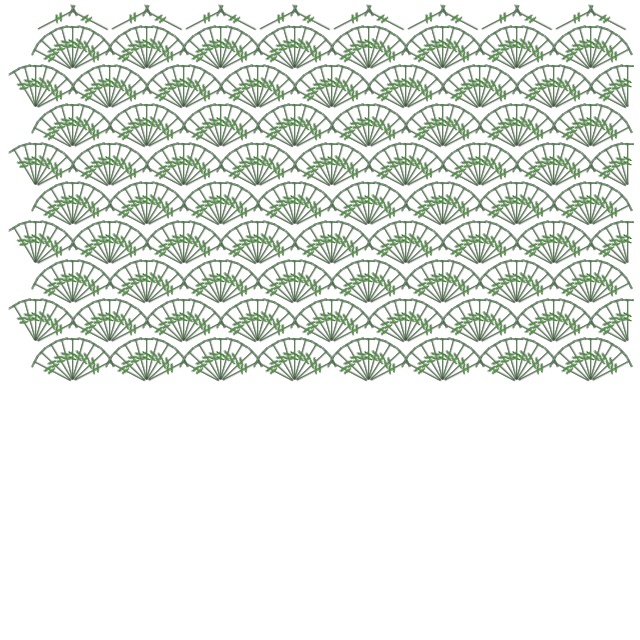fan: (36, 33, 78, 74), (68, 33, 110, 74), (110, 33, 152, 74), (142, 33, 184, 74), (184, 33, 226, 74), (216, 33, 258, 74), (258, 33, 300, 74), (290, 33, 332, 74), (332, 33, 374, 74), (364, 33, 406, 74), (406, 33, 448, 74), (438, 33, 480, 74), (480, 33, 522, 74), (512, 33, 554, 74), (554, 33, 596, 74), (586, 33, 628, 74), (31, 72, 73, 113), (73, 72, 115, 113), (105, 72, 147, 113), (147, 72, 189, 113), (179, 72, 221, 113), (221, 72, 263, 113), (253, 72, 295, 113), (295, 72, 337, 113), (327, 72, 369, 113), (369, 72, 411, 113), (401, 72, 443, 113), (443, 72, 485, 113), (475, 72, 517, 113), (517, 72, 559, 113), (549, 72, 591, 113), (591, 72, 633, 113), (36, 111, 78, 152), (68, 111, 110, 152), (110, 111, 152, 152), (142, 111, 184, 152), (184, 111, 226, 152), (216, 111, 258, 152), (258, 111, 300, 152), (290, 111, 332, 152), (332, 111, 374, 152), (364, 111, 406, 152), (406, 111, 448, 152), (438, 111, 480, 152), (480, 111, 522, 152), (512, 111, 554, 152), (554, 111, 596, 152), (586, 111, 628, 152), (31, 150, 73, 191), (73, 150, 115, 191), (105, 150, 147, 191), (147, 150, 189, 191), (179, 150, 221, 191), (221, 150, 263, 191), (253, 150, 295, 191), (295, 150, 337, 191), (327, 150, 369, 191), (369, 150, 411, 191), (401, 150, 443, 191), (443, 150, 485, 191), (475, 150, 517, 191), (517, 150, 559, 191), (549, 150, 591, 191), (591, 150, 633, 191), (36, 189, 78, 230), (68, 189, 110, 230), (110, 189, 152, 230), (142, 189, 184, 230), (184, 189, 226, 230), (216, 189, 258, 230), (258, 189, 300, 230), (290, 189, 332, 230), (332, 189, 374, 230), (364, 189, 406, 230), (406, 189, 448, 230), (438, 189, 480, 230), (480, 189, 522, 230), (512, 189, 554, 230), (554, 189, 596, 230), (586, 189, 628, 230), (31, 228, 73, 269), (73, 228, 115, 269), (105, 228, 147, 269), (147, 228, 189, 269), (179, 228, 221, 269), (221, 228, 263, 269), (253, 228, 295, 269), (295, 228, 337, 269), (327, 228, 369, 269), (369, 228, 411, 269), (401, 228, 443, 269), (443, 228, 485, 269), (475, 228, 517, 269), (517, 228, 559, 269), (549, 228, 591, 269), (591, 228, 633, 269), (36, 267, 78, 308), (68, 267, 110, 308), (110, 267, 152, 308), (142, 267, 184, 308), (184, 267, 226, 308), (216, 267, 258, 308), (258, 267, 300, 308), (290, 267, 332, 308), (332, 267, 374, 308), (364, 267, 406, 308), (406, 267, 448, 308), (438, 267, 480, 308), (480, 267, 522, 308), (512, 267, 554, 308), (554, 267, 596, 308), (586, 267, 628, 308), (31, 306, 73, 347), (73, 306, 115, 347), (105, 306, 147, 347), (147, 306, 189, 347), (179, 306, 221, 347), (221, 306, 263, 347), (253, 306, 295, 347), (295, 306, 337, 347), (327, 306, 369, 347), (369, 306, 411, 347), (401, 306, 443, 347), (443, 306, 485, 347), (475, 306, 517, 347), (517, 306, 559, 347), (549, 306, 591, 347), (591, 306, 633, 347), (36, 345, 78, 386), (68, 345, 110, 386), (110, 345, 152, 386), (142, 345, 184, 386), (184, 345, 226, 386), (216, 345, 258, 386), (258, 345, 300, 386), (290, 345, 332, 386), (332, 345, 374, 386), (364, 345, 406, 386), (406, 345, 448, 386), (438, 345, 480, 386), (480, 345, 522, 386), (512, 345, 554, 386), (554, 345, 596, 386), (586, 345, 628, 386), (44, 27, 79, 73), (67, 27, 102, 73), (118, 27, 153, 73), (141, 27, 176, 73), (192, 27, 227, 73), (215, 27, 250, 73), (266, 27, 301, 73), (289, 27, 324, 73), (340, 27, 375, 73), (363, 27, 398, 73), (414, 27, 449, 73), (437, 27, 472, 73), (488, 27, 523, 73), (511, 27, 546, 73), (562, 27, 597, 73), (585, 27, 620, 73), (7, 66, 42, 112), (30, 66, 65, 112), (81, 66, 116, 112), (104, 66, 139, 112), (155, 66, 190, 112), (178, 66, 213, 112), (229, 66, 264, 112), (252, 66, 287, 112), (303, 66, 338, 112), (326, 66, 361, 112), (377, 66, 412, 112), (400, 66, 435, 112), (451, 66, 486, 112), (474, 66, 509, 112), (525, 66, 560, 112), (548, 66, 583, 112), (599, 66, 634, 112), (44, 105, 79, 151), (67, 105, 102, 151), (118, 105, 153, 151), (141, 105, 176, 151), (192, 105, 227, 151), (215, 105, 250, 151), (266, 105, 301, 151), (289, 105, 324, 151), (340, 105, 375, 151), (363, 105, 398, 151), (414, 105, 449, 151), (437, 105, 472, 151), (488, 105, 523, 151), (511, 105, 546, 151), (562, 105, 597, 151), (585, 105, 620, 151), (7, 144, 42, 190), (30, 144, 65, 190), (81, 144, 116, 190), (104, 144, 139, 190), (155, 144, 190, 190), (178, 144, 213, 190), (229, 144, 264, 190), (252, 144, 287, 190), (303, 144, 338, 190), (326, 144, 361, 190), (377, 144, 412, 190), (400, 144, 435, 190), (451, 144, 486, 190), (474, 144, 509, 190), (525, 144, 560, 190), (548, 144, 583, 190), (599, 144, 634, 190), (44, 183, 79, 229), (67, 183, 102, 229), (118, 183, 153, 229), (141, 183, 176, 229), (192, 183, 227, 229), (215, 183, 250, 229), (266, 183, 301, 229), (289, 183, 324, 229), (340, 183, 375, 229), (363, 183, 398, 229), (414, 183, 449, 229), (437, 183, 472, 229), (488, 183, 523, 229), (511, 183, 546, 229), (562, 183, 597, 229), (585, 183, 620, 229), (7, 222, 42, 268), (30, 222, 65, 268), (81, 222, 116, 268), (104, 222, 139, 268), (155, 222, 190, 268), (178, 222, 213, 268), (229, 222, 264, 268), (252, 222, 287, 268), (303, 222, 338, 268), (326, 222, 361, 268), (377, 222, 412, 268), (400, 222, 435, 268), (451, 222, 486, 268), (474, 222, 509, 268), (525, 222, 560, 268), (548, 222, 583, 268), (599, 222, 634, 268), (44, 261, 79, 307), (67, 261, 102, 307), (118, 261, 153, 307), (141, 261, 176, 307), (192, 261, 227, 307), (215, 261, 250, 307), (266, 261, 301, 307), (289, 261, 324, 307), (340, 261, 375, 307), (363, 261, 398, 307), (414, 261, 449, 307), (437, 261, 472, 307), (488, 261, 523, 307), (511, 261, 546, 307), (562, 261, 597, 307), (585, 261, 620, 307), (7, 300, 42, 346), (30, 300, 65, 346), (81, 300, 116, 346), (104, 300, 139, 346), (155, 300, 190, 346), (178, 300, 213, 346), (229, 300, 264, 346), (252, 300, 287, 346), (303, 300, 338, 346), (326, 300, 361, 346), (377, 300, 412, 346), (400, 300, 435, 346), (451, 300, 486, 346), (474, 300, 509, 346), (525, 300, 560, 346), (548, 300, 583, 346), (599, 300, 634, 346), (44, 339, 79, 385), (67, 339, 102, 385), (118, 339, 153, 385), (141, 339, 176, 385), (192, 339, 227, 385), (215, 339, 250, 385), (266, 339, 301, 385), (289, 339, 324, 385), (340, 339, 375, 385), (363, 339, 398, 385), (414, 339, 449, 385), (437, 339, 472, 385), (488, 339, 523, 385), (511, 339, 546, 385), (562, 339, 597, 385), (585, 339, 620, 385), (33, 3, 78, 37), (68, 3, 113, 37), (107, 3, 152, 37), (142, 3, 187, 37), (181, 3, 226, 37), (216, 3, 261, 37), (255, 3, 300, 37), (290, 3, 335, 37), (329, 3, 374, 37), (364, 3, 409, 37), (403, 3, 448, 37), (438, 3, 483, 37), (477, 3, 522, 37), (512, 3, 557, 37), (551, 3, 596, 37), (586, 3, 631, 37), (31, 42, 76, 76), (70, 42, 115, 76), (105, 42, 150, 76), (144, 42, 189, 76), (179, 42, 224, 76), (218, 42, 263, 76), (253, 42, 298, 76), (292, 42, 337, 76), (327, 42, 372, 76), (366, 42, 411, 76), (401, 42, 446, 76), (440, 42, 485, 76), (475, 42, 520, 76), (514, 42, 559, 76), (549, 42, 594, 76), (588, 42, 633, 76), (33, 81, 78, 115), (68, 81, 113, 115), (107, 81, 152, 115), (142, 81, 187, 115), (181, 81, 226, 115), (216, 81, 261, 115), (255, 81, 300, 115), (290, 81, 335, 115), (329, 81, 374, 115), (364, 81, 409, 115), (403, 81, 448, 115), (438, 81, 483, 115), (477, 81, 522, 115), (512, 81, 557, 115), (551, 81, 596, 115), (586, 81, 631, 115), (31, 120, 76, 154), (70, 120, 115, 154), (105, 120, 150, 154), (144, 120, 189, 154), (179, 120, 224, 154), (218, 120, 263, 154), (253, 120, 298, 154), (292, 120, 337, 154), (327, 120, 372, 154), (366, 120, 411, 154), (401, 120, 446, 154), (440, 120, 485, 154), (475, 120, 520, 154), (514, 120, 559, 154), (549, 120, 594, 154), (588, 120, 633, 154), (33, 159, 78, 193), (68, 159, 113, 193), (107, 159, 152, 193), (142, 159, 187, 193), (181, 159, 226, 193), (216, 159, 261, 193), (255, 159, 300, 193), (290, 159, 335, 193), (329, 159, 374, 193), (364, 159, 409, 193), (403, 159, 448, 193), (438, 159, 483, 193), (477, 159, 522, 193), (512, 159, 557, 193), (551, 159, 596, 193), (586, 159, 631, 193), (31, 198, 76, 232), (70, 198, 115, 232), (105, 198, 150, 232), (144, 198, 189, 232), (179, 198, 224, 232), (218, 198, 263, 232), (253, 198, 298, 232), (292, 198, 337, 232), (327, 198, 372, 232), (366, 198, 411, 232), (401, 198, 446, 232), (440, 198, 485, 232), (475, 198, 520, 232), (514, 198, 559, 232), (549, 198, 594, 232), (588, 198, 633, 232), (33, 237, 78, 271), (68, 237, 113, 271), (107, 237, 152, 271), (142, 237, 187, 271), (181, 237, 226, 271), (216, 237, 261, 271), (255, 237, 300, 271), (290, 237, 335, 271), (329, 237, 374, 271), (364, 237, 409, 271), (403, 237, 448, 271), (438, 237, 483, 271), (477, 237, 522, 271), (512, 237, 557, 271), (551, 237, 596, 271), (586, 237, 631, 271), (31, 276, 76, 310), (70, 276, 115, 310), (105, 276, 150, 310), (144, 276, 189, 310), (179, 276, 224, 310), (218, 276, 263, 310), (253, 276, 298, 310), (292, 276, 337, 310), (327, 276, 372, 310), (366, 276, 411, 310), (401, 276, 446, 310), (440, 276, 485, 310), (475, 276, 520, 310), (514, 276, 559, 310), (549, 276, 594, 310), (588, 276, 633, 310), (33, 315, 78, 349), (68, 315, 113, 349), (107, 315, 152, 349), (142, 315, 187, 349), (181, 315, 226, 349), (216, 315, 261, 349), (255, 315, 300, 349), (290, 315, 335, 349), (329, 315, 374, 349), (364, 315, 409, 349), (403, 315, 448, 349), (438, 315, 483, 349), (477, 315, 522, 349), (512, 315, 557, 349), (551, 315, 596, 349), (586, 315, 631, 349), (31, 354, 76, 388), (70, 354, 115, 388), (105, 354, 150, 388), (144, 354, 189, 388), (179, 354, 224, 388), (218, 354, 263, 388), (253, 354, 298, 388), (292, 354, 337, 388), (327, 354, 372, 388), (366, 354, 411, 388), (401, 354, 446, 388), (440, 354, 485, 388), (475, 354, 520, 388), (514, 354, 559, 388), (549, 354, 594, 388), (588, 354, 633, 388), (54, 25, 80, 71), (66, 25, 92, 71), (128, 25, 154, 71), (140, 25, 166, 71), (202, 25, 228, 71), (214, 25, 240, 71), (276, 25, 302, 71), (288, 25, 314, 71), (350, 25, 376, 71), (362, 25, 388, 71), (424, 25, 450, 71), (436, 25, 462, 71), (498, 25, 524, 71), (510, 25, 536, 71), (572, 25, 598, 71), (584, 25, 610, 71), (17, 64, 43, 110), (29, 64, 55, 110), (91, 64, 117, 110), (103, 64, 129, 110), (165, 64, 191, 110), (177, 64, 203, 110), (239, 64, 265, 110), (251, 64, 277, 110), (313, 64, 339, 110), (325, 64, 351, 110), (387, 64, 413, 110), (399, 64, 425, 110), (461, 64, 487, 110), (473, 64, 499, 110), (535, 64, 561, 110), (547, 64, 573, 110), (609, 64, 635, 110), (54, 103, 80, 149), (66, 103, 92, 149), (128, 103, 154, 149), (140, 103, 166, 149), (202, 103, 228, 149), (214, 103, 240, 149), (276, 103, 302, 149), (288, 103, 314, 149), (350, 103, 376, 149), (362, 103, 388, 149), (424, 103, 450, 149), (436, 103, 462, 149), (498, 103, 524, 149), (510, 103, 536, 149), (572, 103, 598, 149), (584, 103, 610, 149), (17, 142, 43, 188), (29, 142, 55, 188), (91, 142, 117, 188), (103, 142, 129, 188), (165, 142, 191, 188), (177, 142, 203, 188), (239, 142, 265, 188), (251, 142, 277, 188), (313, 142, 339, 188), (325, 142, 351, 188), (387, 142, 413, 188), (399, 142, 425, 188), (461, 142, 487, 188), (473, 142, 499, 188), (535, 142, 561, 188), (547, 142, 573, 188), (609, 142, 635, 188), (54, 181, 80, 227), (66, 181, 92, 227), (128, 181, 154, 227), (140, 181, 166, 227), (202, 181, 228, 227), (214, 181, 240, 227), (276, 181, 302, 227), (288, 181, 314, 227), (350, 181, 376, 227), (362, 181, 388, 227), (424, 181, 450, 227), (436, 181, 462, 227), (498, 181, 524, 227), (510, 181, 536, 227), (572, 181, 598, 227), (584, 181, 610, 227), (17, 220, 43, 266), (29, 220, 55, 266), (91, 220, 117, 266), (103, 220, 129, 266), (165, 220, 191, 266), (177, 220, 203, 266), (239, 220, 265, 266), (251, 220, 277, 266), (313, 220, 339, 266), (325, 220, 351, 266), (387, 220, 413, 266), (399, 220, 425, 266), (461, 220, 487, 266), (473, 220, 499, 266), (535, 220, 561, 266), (547, 220, 573, 266), (609, 220, 635, 266), (54, 259, 80, 305), (66, 259, 92, 305), (128, 259, 154, 305), (140, 259, 166, 305), (202, 259, 228, 305), (214, 259, 240, 305), (276, 259, 302, 305), (288, 259, 314, 305), (350, 259, 376, 305), (362, 259, 388, 305), (424, 259, 450, 305), (436, 259, 462, 305), (498, 259, 524, 305), (510, 259, 536, 305), (572, 259, 598, 305), (584, 259, 610, 305), (17, 298, 43, 344), (29, 298, 55, 344), (91, 298, 117, 344), (103, 298, 129, 344), (165, 298, 191, 344), (177, 298, 203, 344), (239, 298, 265, 344), (251, 298, 277, 344), (313, 298, 339, 344), (325, 298, 351, 344), (387, 298, 413, 344), (399, 298, 425, 344), (461, 298, 487, 344), (473, 298, 499, 344), (535, 298, 561, 344), (547, 298, 573, 344), (609, 298, 635, 344), (54, 337, 80, 383), (66, 337, 92, 383), (128, 337, 154, 383), (140, 337, 166, 383), (202, 337, 228, 383), (214, 337, 240, 383), (276, 337, 302, 383), (288, 337, 314, 383), (350, 337, 376, 383), (362, 337, 388, 383), (424, 337, 450, 383), (436, 337, 462, 383), (498, 337, 524, 383), (510, 337, 536, 383), (572, 337, 598, 383), (584, 337, 610, 383), (28, 64, 44, 108), (102, 64, 118, 108), (176, 64, 192, 108), (250, 64, 266, 108), (324, 64, 340, 108), (398, 64, 414, 108), (472, 64, 488, 108), (546, 64, 562, 108), (620, 64, 636, 108), (28, 142, 44, 186), (102, 142, 118, 186), (176, 142, 192, 186), (250, 142, 266, 186), (324, 142, 340, 186), (398, 142, 414, 186), (472, 142, 488, 186), (546, 142, 562, 186), (620, 142, 636, 186), (28, 220, 44, 264), (102, 220, 118, 264), (176, 220, 192, 264), (250, 220, 266, 264), (324, 220, 340, 264), (398, 220, 414, 264), (472, 220, 488, 264), (546, 220, 562, 264), (620, 220, 636, 264), (28, 298, 44, 342), (102, 298, 118, 342), (176, 298, 192, 342), (250, 298, 266, 342), (324, 298, 340, 342), (398, 298, 414, 342), (472, 298, 488, 342), (546, 298, 562, 342), (620, 298, 636, 342), (66, 25, 80, 69), (140, 25, 154, 69), (214, 25, 228, 69), (288, 25, 302, 69), (362, 25, 376, 69), (436, 25, 450, 69), (510, 25, 524, 69), (584, 25, 598, 69), (66, 103, 80, 147), (140, 103, 154, 147), (214, 103, 228, 147), (288, 103, 302, 147), (362, 103, 376, 147), (436, 103, 450, 147), (510, 103, 524, 147), (584, 103, 598, 147), (66, 181, 80, 225), (140, 181, 154, 225), (214, 181, 228, 225), (288, 181, 302, 225), (362, 181, 376, 225), (436, 181, 450, 225), (510, 181, 524, 225), (584, 181, 598, 225), (66, 259, 80, 303), (140, 259, 154, 303), (214, 259, 228, 303), (288, 259, 302, 303), (362, 259, 376, 303), (436, 259, 450, 303), (510, 259, 524, 303), (584, 259, 598, 303), (66, 337, 80, 381), (140, 337, 154, 381), (214, 337, 228, 381), (288, 337, 302, 381), (362, 337, 376, 381), (436, 337, 450, 381), (510, 337, 524, 381), (584, 337, 598, 381)
